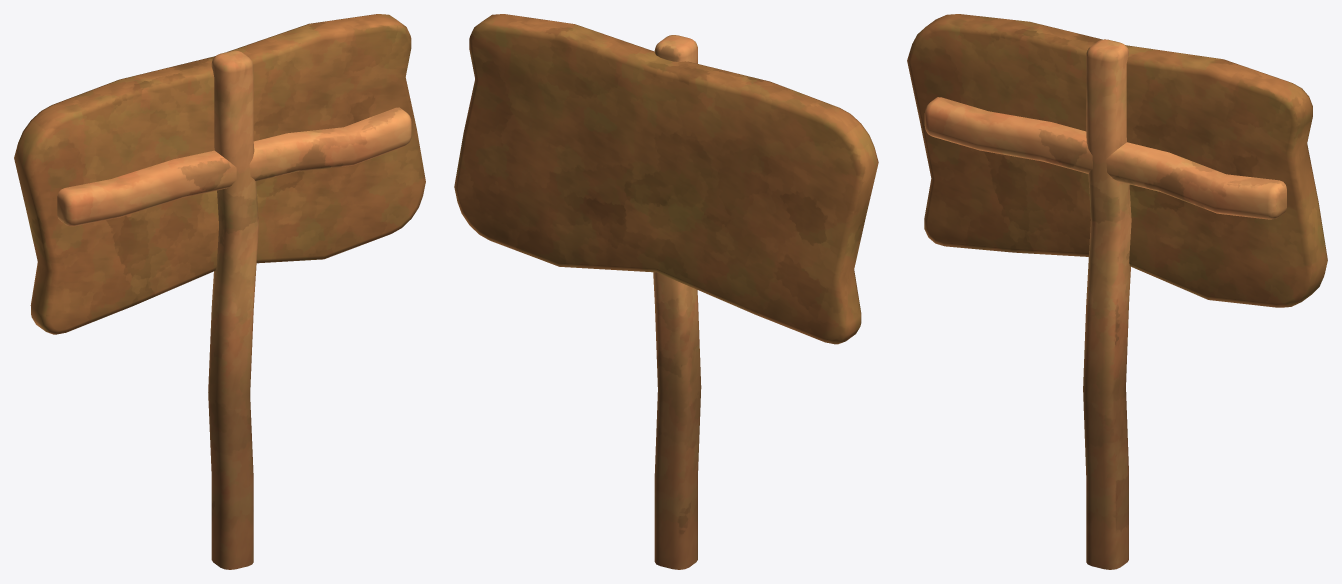
The model's file is Pancarte.fbx.
3 renders of one model, left to right at view 1: azimuth 30°, elevation 25°; view 2: azimuth 150°, elevation 25°; view 3: azimuth 330°, elevation 25°, orthographic. The views are drawn at different scales.
Parts seen in each view (by area): view 1: Pancarte; view 2: Pancarte; view 3: Pancarte.
Boxes of the visible parts, <box> form: Pancarte: <box>14,14,425,569</box>; Pancarte: <box>454,14,878,569</box>; Pancarte: <box>907,14,1327,569</box>.
Bounding box in the file's own units: 972 × 1169 × 123.
